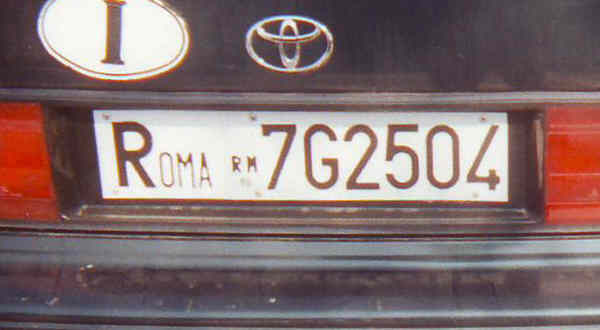license_plate: (90, 107, 510, 203)
